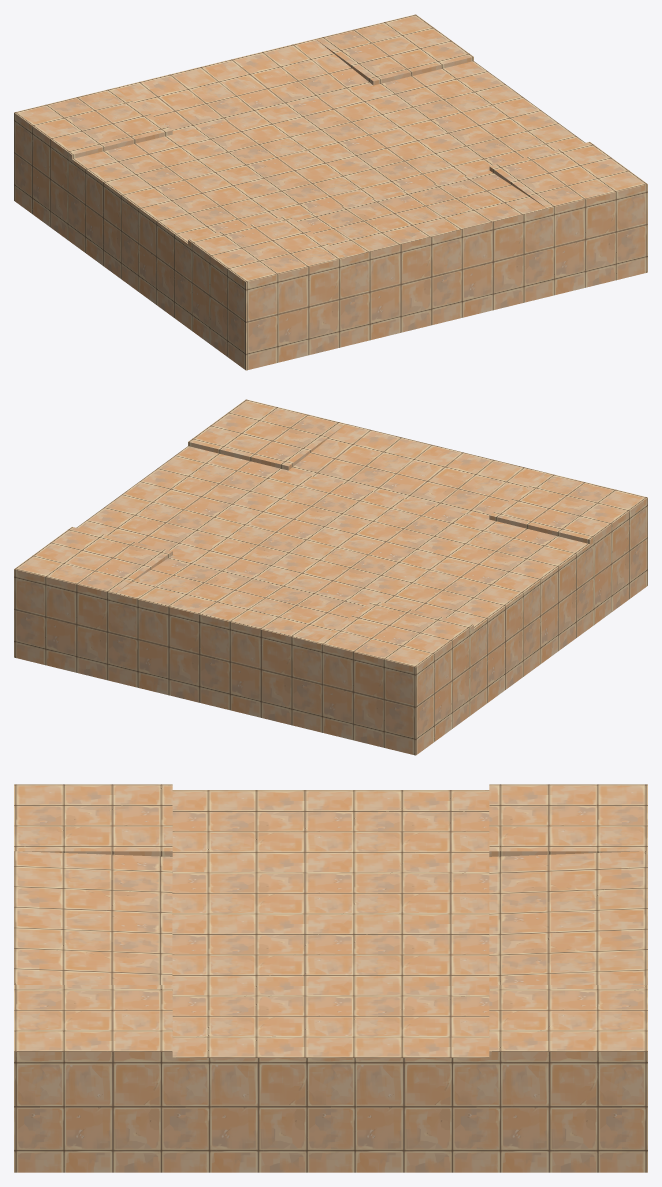
Rendered from tile028.fbx.
The picture shows the model from 3 angles, top to bottom: view 1: azimuth 30°, elevation 25°; view 2: azimuth 150°, elevation 25°; view 3: azimuth 270°, elevation 25°; orthographic projection. The views are drawn at different scales.
Parts seen in each view (by area): view 1: tile028; view 2: tile028; view 3: tile028.
Boxes of the visible parts, x1,y1,x2,y2 form: tile028: (14,14,647,370); tile028: (14,399,647,755); tile028: (14,784,647,1172).
Bounding box in the file's own units: 100 × 21 × 100.
